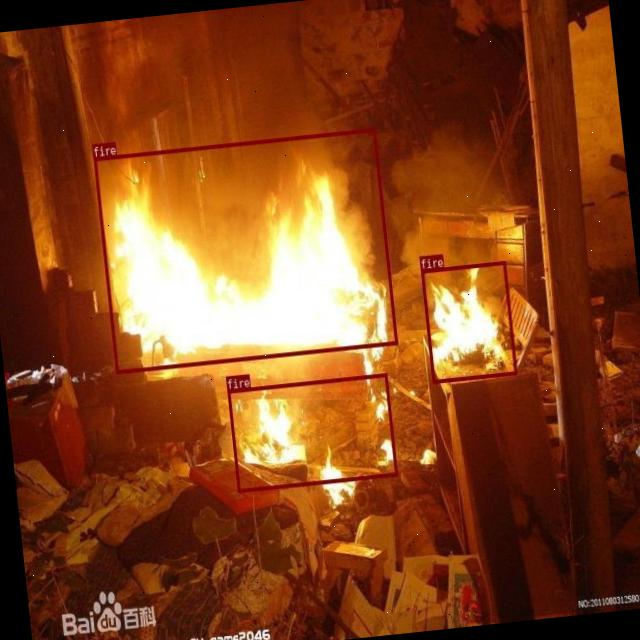fire: (93, 128, 397, 372), (226, 372, 396, 492), (420, 260, 516, 382)
